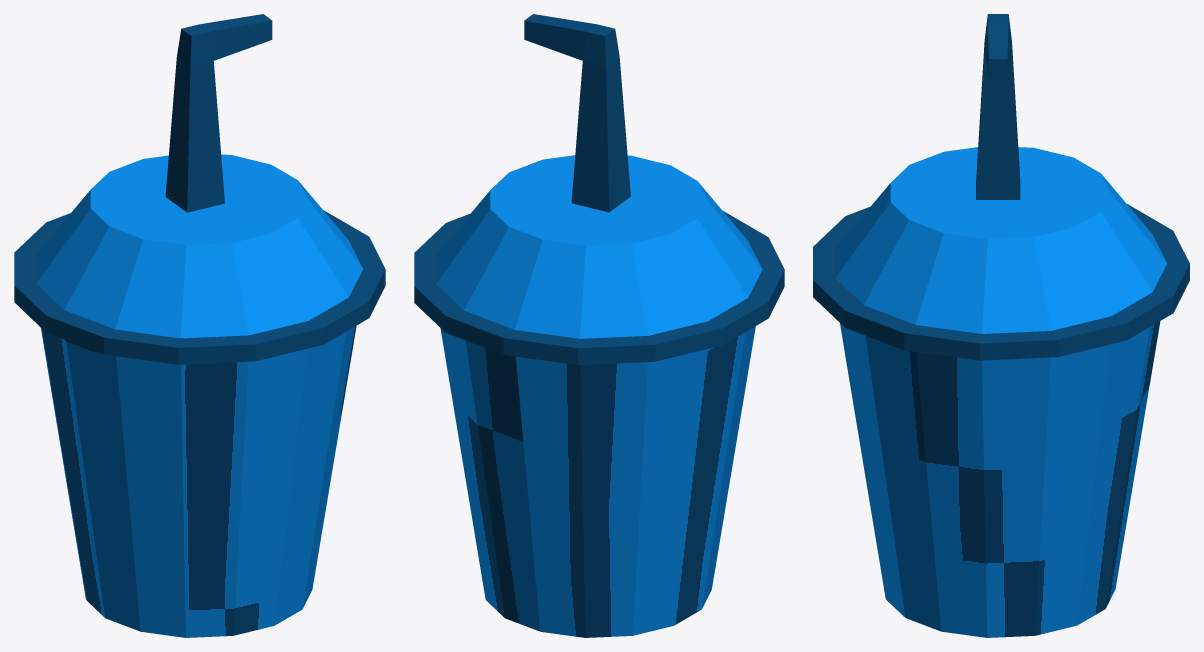
Rendered from Soda 1.fbx.
The picture shows the model from 3 angles, left to right: view 1: azimuth 30°, elevation 25°; view 2: azimuth 150°, elevation 25°; view 3: azimuth 270°, elevation 25°; orthographic projection.
Parts seen in each view (by area): view 1: Cylinder, Cylinder.001; view 2: Cylinder, Cylinder.001; view 3: Cylinder, Cylinder.001.
Part boxes in pixels (x1=…): Cylinder: x1=14, y1=210, x2=385, y2=637; Cylinder.001: x1=36, y1=14, x2=362, y2=338; Cylinder: x1=414, y1=211, x2=784, y2=637; Cylinder.001: x1=436, y1=14, x2=762, y2=338; Cylinder: x1=813, y1=204, x2=1189, y2=637; Cylinder.001: x1=835, y1=14, x2=1166, y2=333.
Bounding box in the file's own units: 90.93 × 151 × 90.43.
1 material, 1 textured.
